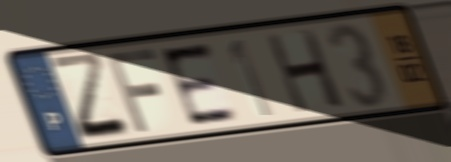1: (227, 37, 276, 117)
3: (327, 16, 393, 114)
E: (156, 39, 242, 129)
F: (103, 45, 164, 136)
H: (262, 26, 348, 116)
Z: (46, 49, 137, 143)
